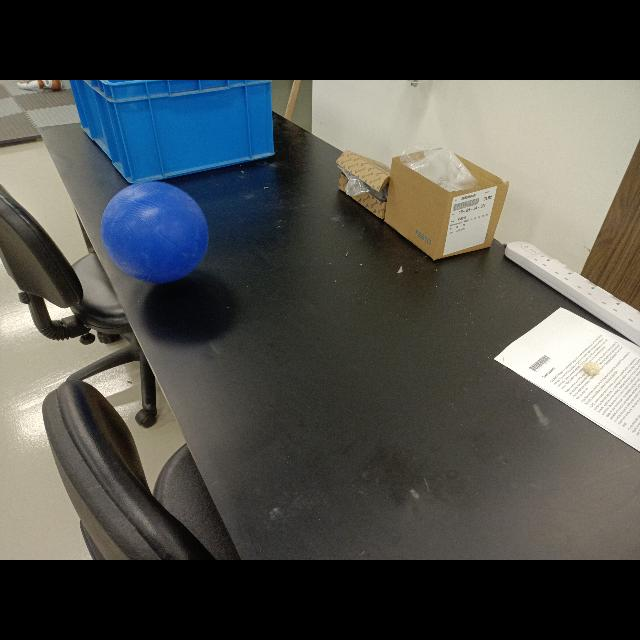B: (106, 176, 210, 282)
